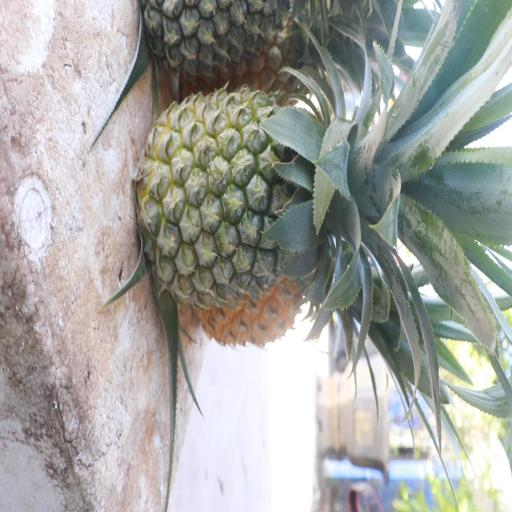------------------------------: (136, 85, 338, 308)
